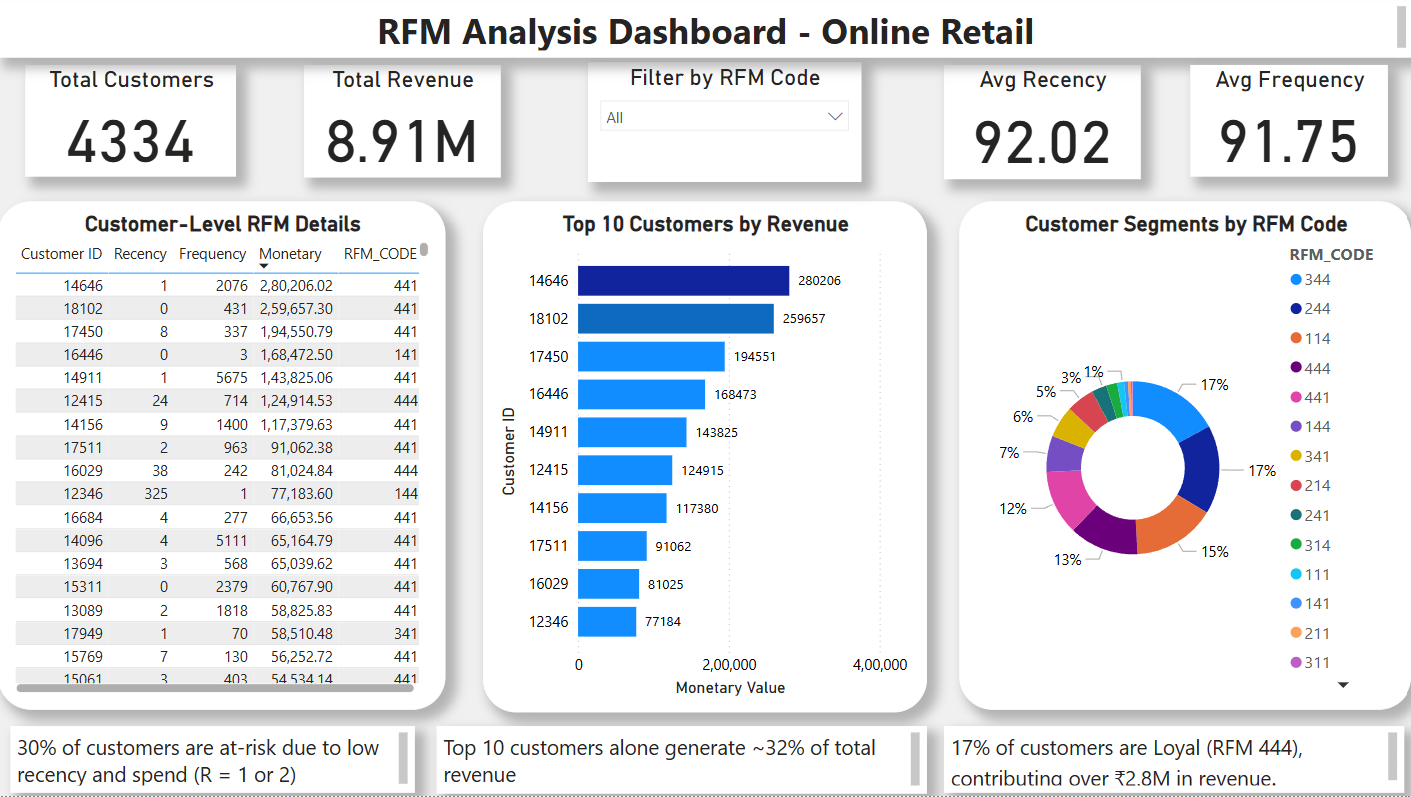

The page's visual inventory and layout, read from the dashboard file:
{"tool":"powerbi","page":{"name":"Page 1","canvas":[1280,720],"ordinal":0},"visuals":[{"type":"card","title":"Total Customers","fields":{"Values":["CountNonNull(RFM_FINAL.Customer ID)"]},"box":[24.5,59.2,190.4,101],"z":0},{"type":"card","title":"Total Revenue","fields":{"Values":["Sum(RFM_FINAL.Monetary)"]},"box":[277.1,59.2,220.3,101.9],"z":1000},{"type":"card","title":"Avg Recency","fields":{"Values":["Avg(RFM_FINAL.Recency)"]},"box":[822.2,58.7,210.9,103.1],"z":2000},{"type":"donutChart","title":" Customer Segments by RFM Code","fields":{"Category":["RFM_FINAL.RFM_CODE"],"Y":["CountNonNull(RFM_FINAL.Customer ID)"]},"box":[870,181.8,409.7,460.2],"z":3000},{"type":"clusteredBarChart","title":"Top 10 Customers by Revenue","fields":{"Category":["RFM_FINAL.Customer ID"],"Y":["Sum(RFM_FINAL.Monetary)"]},"box":[438.7,182.2,401.5,462.6],"z":4000},{"type":"tableEx","title":"Customer-Level RFM Details","fields":{"Values":["RFM_FINAL.Customer ID","RFM_FINAL.Recency","RFM_FINAL.Frequency","RFM_FINAL.Monetary","RFM_FINAL.RFM_CODE"]},"box":[0,182.2,405.1,460.2],"z":5000},{"type":"slicer","title":"Filter by RFM Code","fields":{"Values":["RFM_FINAL.RFM_CODE"]},"box":[533.3,56.3,246.9,107.9],"z":6000},{"type":"textbox","box":[0,0,1279.7,51.6],"z":7000},{"type":"card","title":"Avg Frequency","fields":{"Values":["Avg(RFM_FINAL.Frequency)"]},"box":[1078.7,58.7,178.6,100.7],"z":8000},{"type":"textbox","box":[435.1,653.2,443.4,61.1],"z":9000},{"type":"textbox","box":[892.9,654.4,371.5,59.9],"z":10000},{"type":"textbox","box":[12,653.2,406.3,59.9],"z":11000}]}

Visuals, with their boxes in screenshot pixels (x1, y1, x2, y2), scaled from the page's 1280x720 canvas onto the 1411x797 screenshot:
"Total Customers" card: (27,66,237,177)
"Total Revenue" card: (305,66,548,178)
"Avg Recency" card: (906,65,1139,179)
" Customer Segments by RFM Code" donutChart: (959,201,1410,711)
"Top 10 Customers by Revenue" clusteredBarChart: (484,202,926,714)
"Customer-Level RFM Details" tableEx: (0,202,447,711)
"Filter by RFM Code" slicer: (588,62,860,182)
textbox: (0,0,1410,57)
"Avg Frequency" card: (1189,65,1386,176)
textbox: (480,723,968,791)
textbox: (984,724,1394,791)
textbox: (13,723,461,789)
